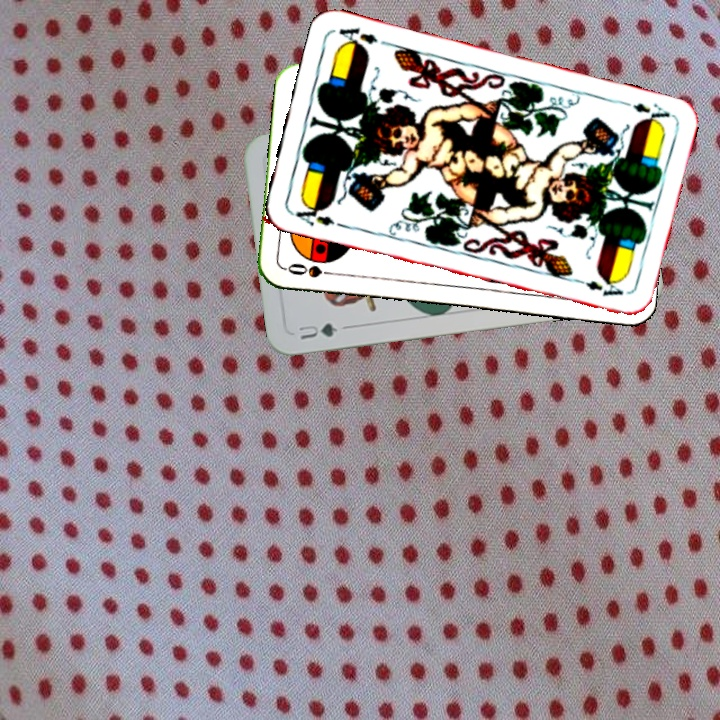EA: (616, 96, 673, 128), (287, 199, 337, 229)
GU: (294, 318, 341, 343)
SO: (282, 259, 341, 281)
